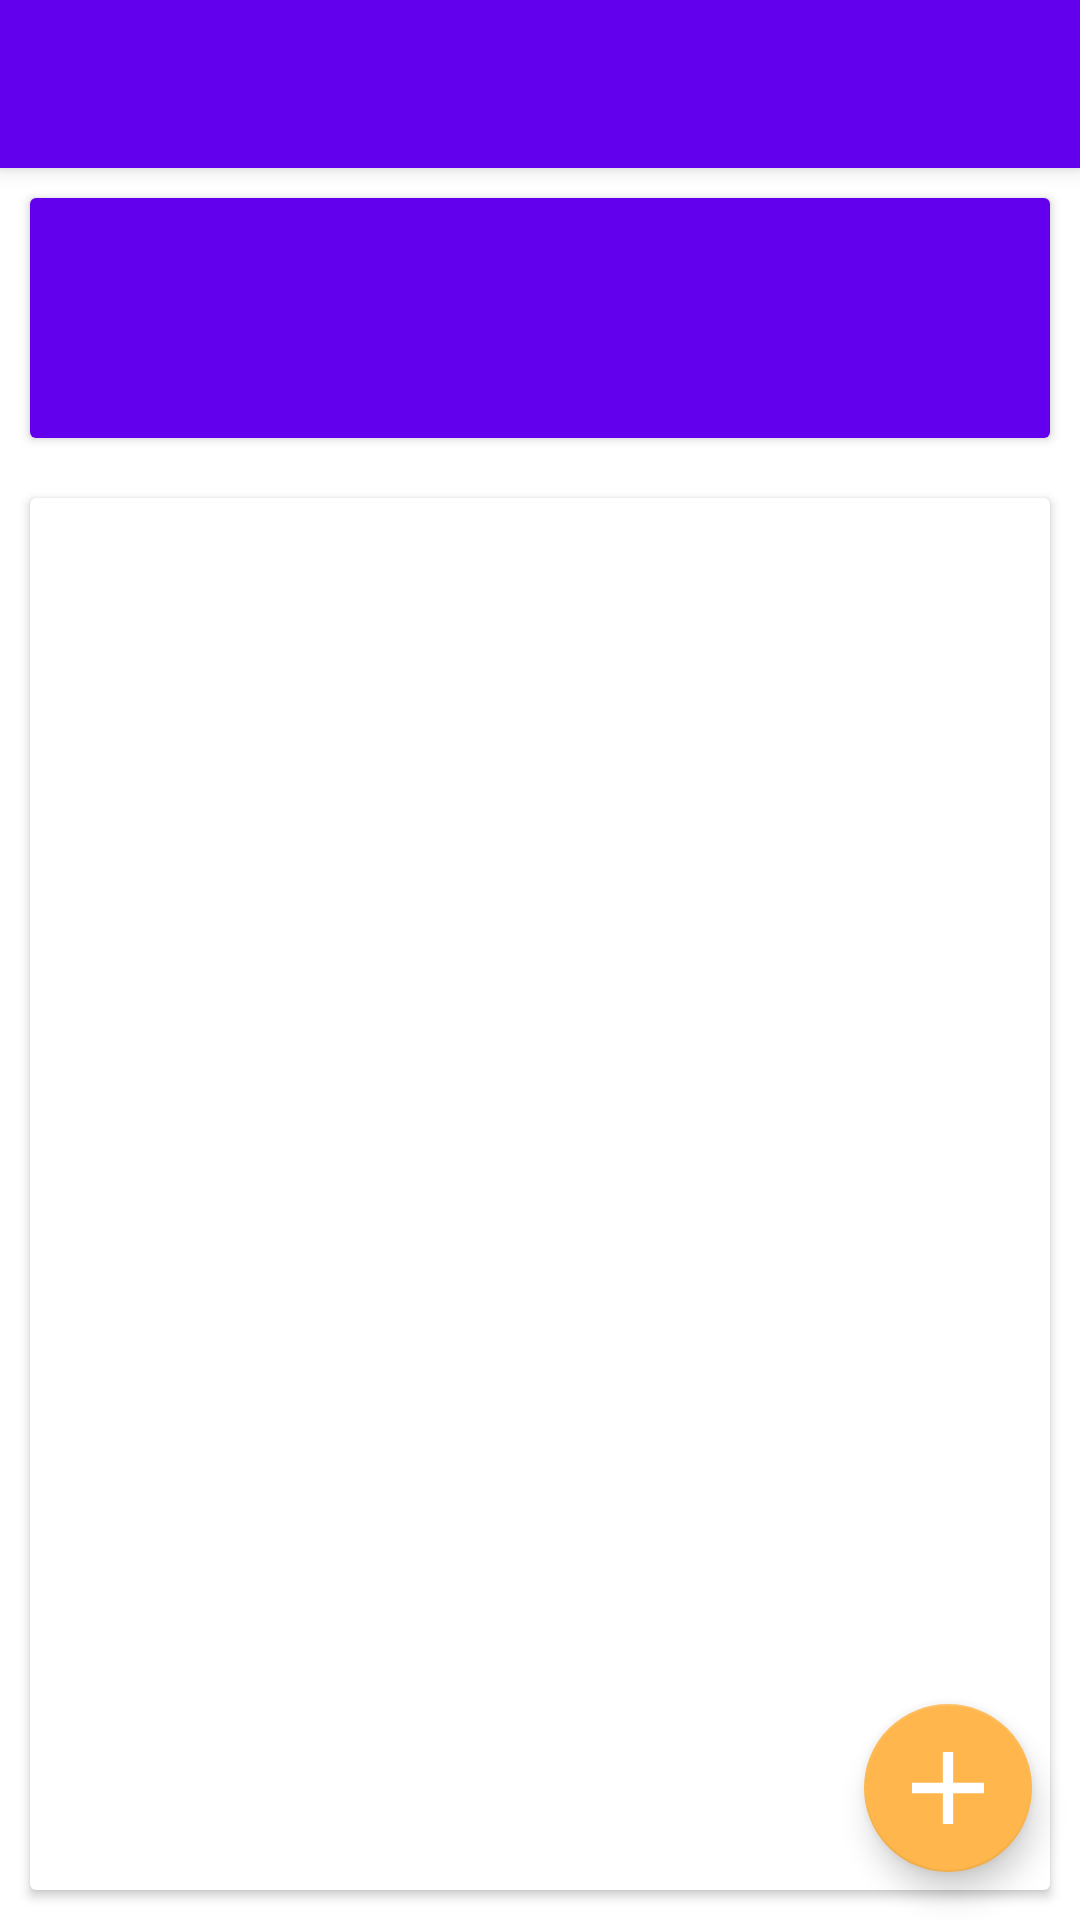

Locate icon controls on the screen. Image size 1080x1920, boxes as bbox(x1, y1, x2, y2).
fab add: bbox(864, 1704, 1032, 1872)
